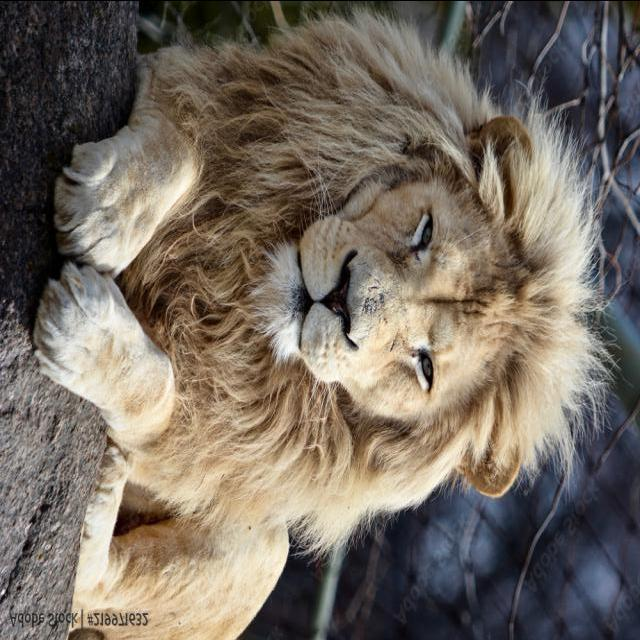lions: (0, 7, 640, 609)
